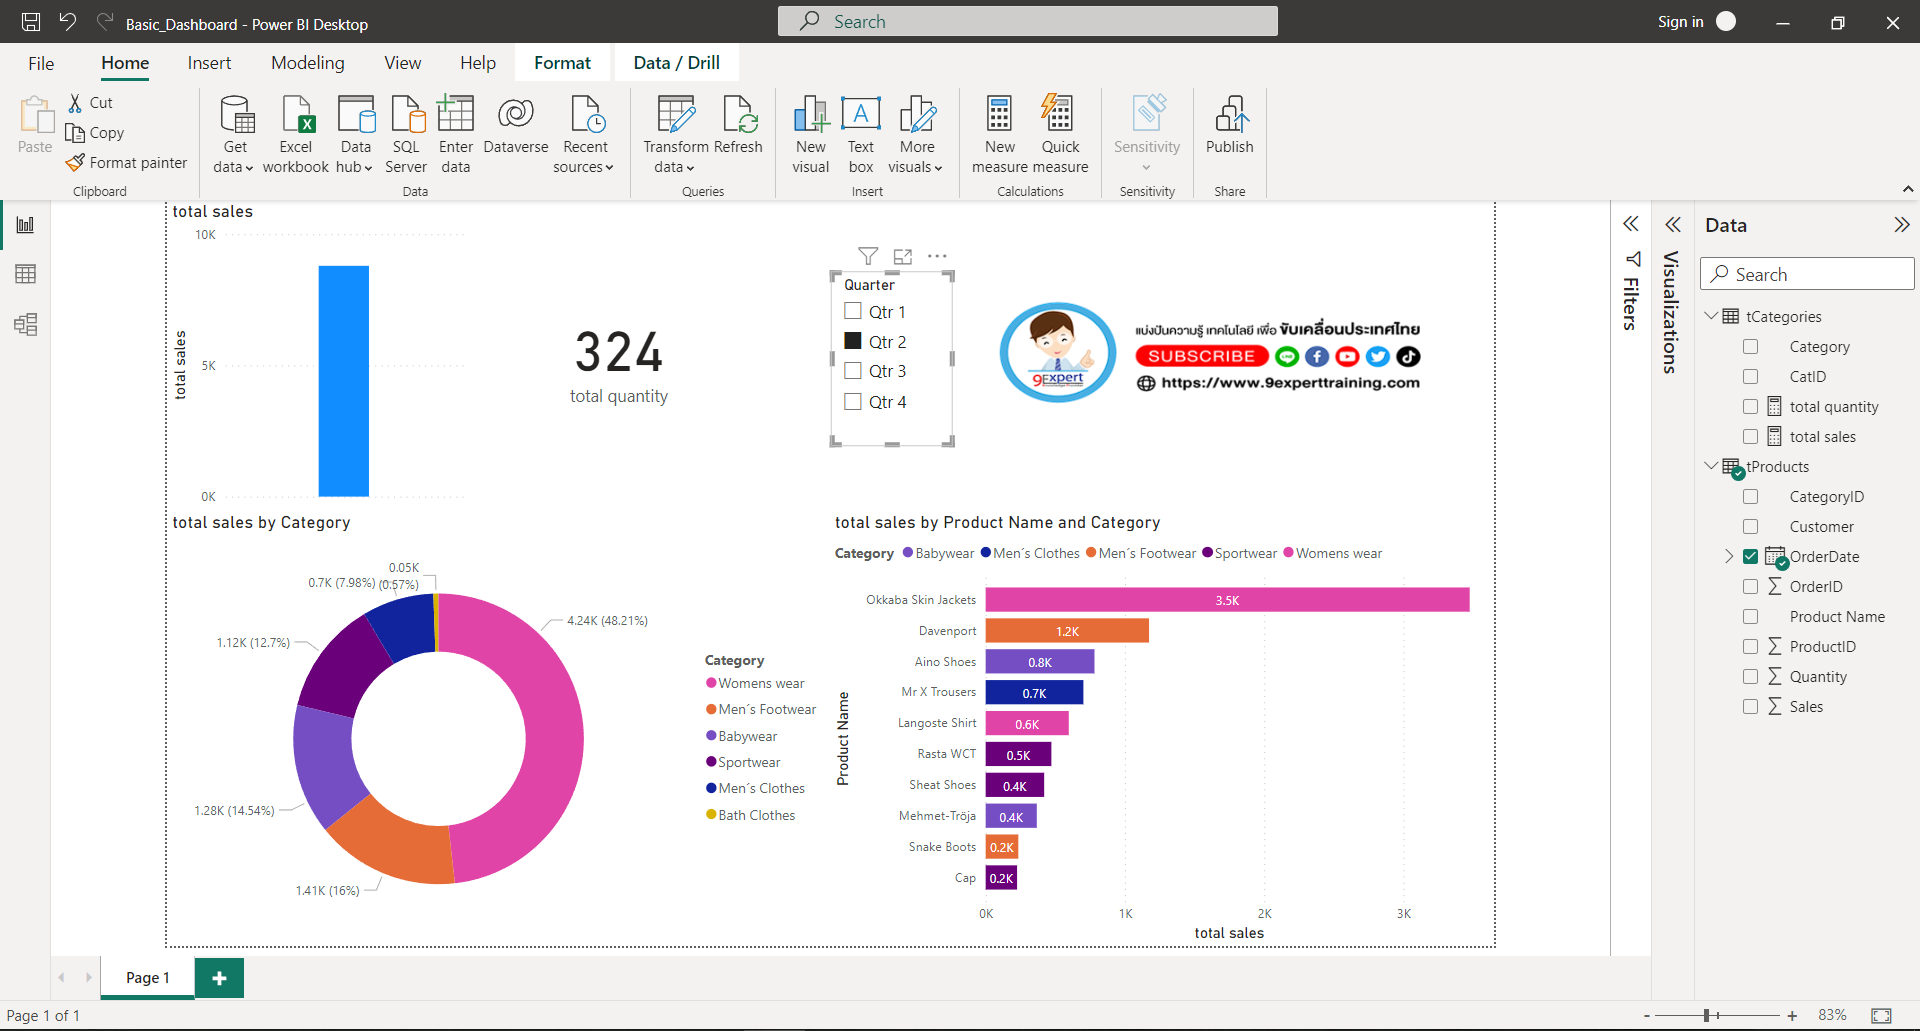

This screenshot's page, from the dashboard's own definition file:
{"tool":"powerbi","page":{"name":"Page 1","canvas":[1280,720],"ordinal":0},"visuals":[{"type":"columnChart","fields":{"Y":["tCategories.total sales"]},"box":[0,0,291.9,300.3],"z":0},{"type":"card","fields":{"Values":["tCategories.total quantity"]},"box":[291.9,0,288.2,300.3],"z":1000},{"type":"donutChart","fields":{"Y":["tCategories.total sales"],"Category":["tCategories.Category"]},"box":[0,300.5,640.8,419.9],"z":2000},{"type":"slicer","fields":{"Values":["tProducts.OrderDate.Variation.Date Hierarchy.Quarter"]},"box":[640.8,68.6,118,168.8],"z":3000},{"type":"barChart","fields":{"Category":["tProducts.Product Name"],"Y":["tCategories.total sales"],"Series":["tCategories.Category"]},"box":[639.5,300.5,640.8,419.9],"z":4000},{"type":"image","box":[759,69,521,169],"z":5000}]}

Visuals, with their boxes on the page's 1280x720 design canvas (x1, y1, x2, y2). These are canvas units, not pixel positions in the 1920x1031 screenshot, which may show the page scaled, cropped or inside an application window:
columnChart - tCategories.total sales: locate(0, 0, 292, 300)
card - tCategories.total quantity: locate(292, 0, 580, 300)
donutChart - tCategories.total sales x tCategories.Category: locate(0, 300, 641, 720)
slicer - tProducts.OrderDate.Variation.Date Hierarchy.Quarter: locate(641, 69, 759, 237)
barChart - tProducts.Product Name x tCategories.total sales: locate(640, 300, 1280, 720)
image: locate(759, 69, 1280, 238)
